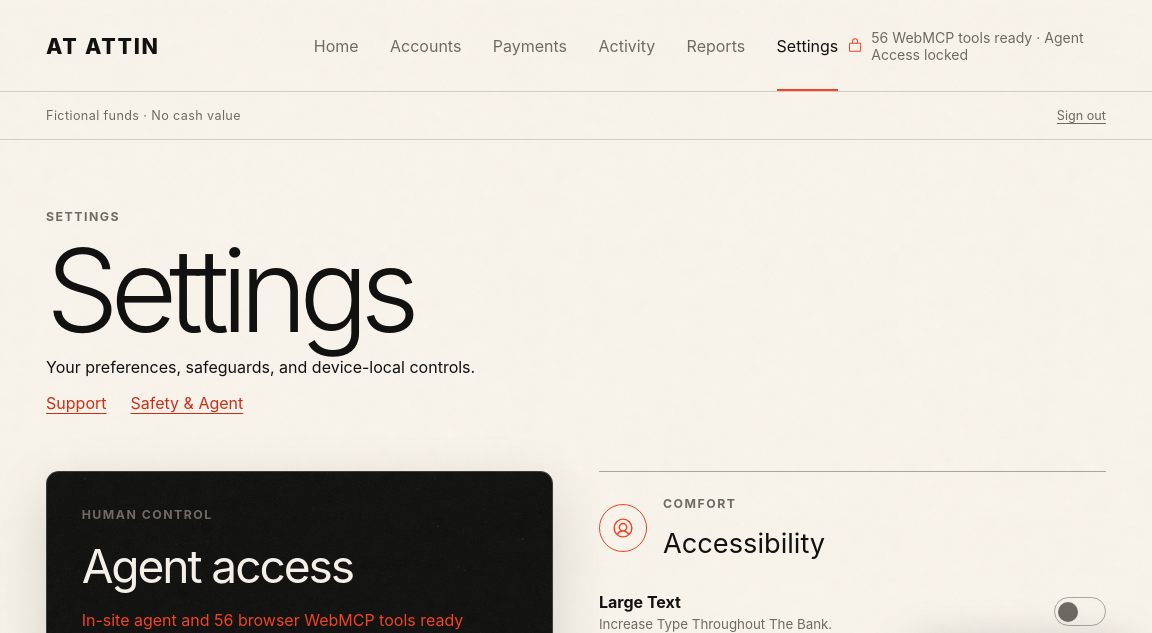
At Attin application shell › signs out in memory and returns protected content to login
Click the button "Sign out": (1081, 116) [1057,94,1106,138]
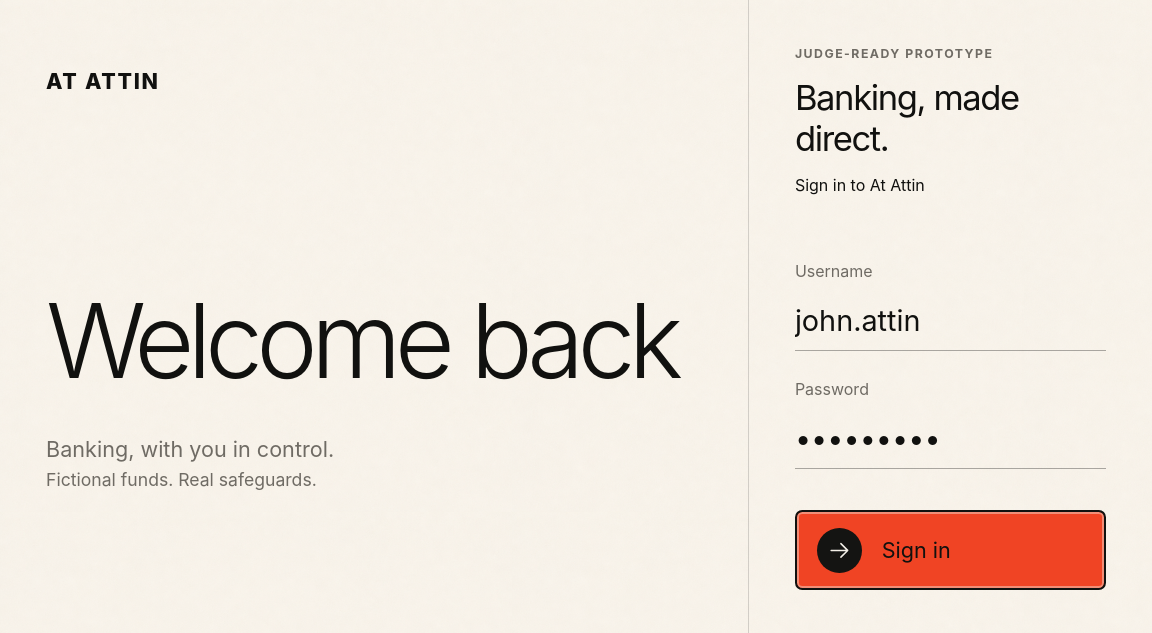
Expected: the heading "Banking, made direct." is shown, [795,77,1019,159]
